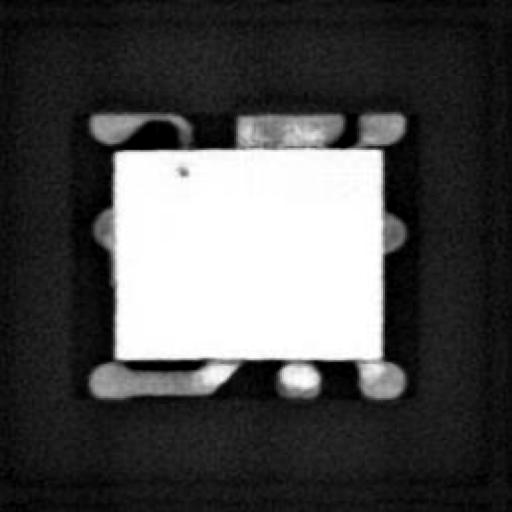DIE_INK: (170, 161, 188, 178)
